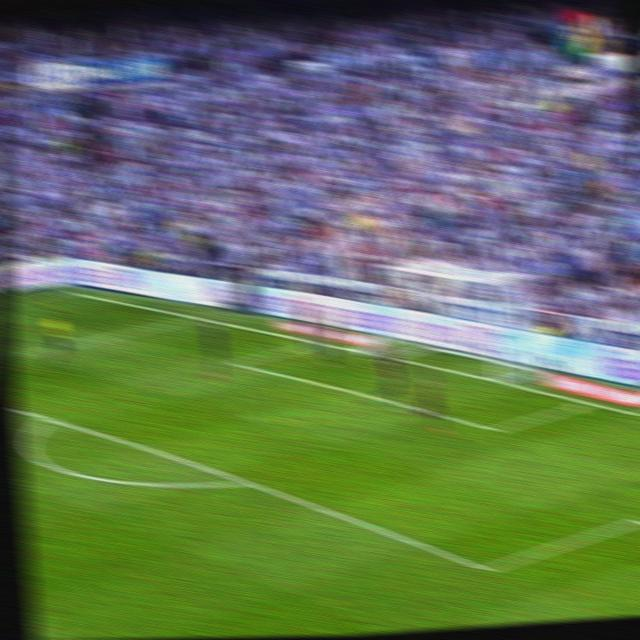bigarea_bottom_inner: (477, 554, 498, 583)
bigarea_bottom_outter: (39, 408, 58, 428)
bottom_arc_area_intersection: (234, 469, 256, 493)
corner: (62, 286, 79, 298)
